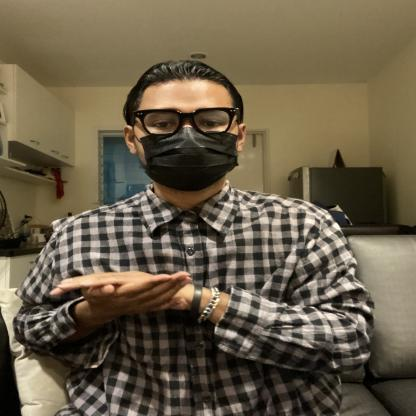Love: (29, 236, 240, 342)
